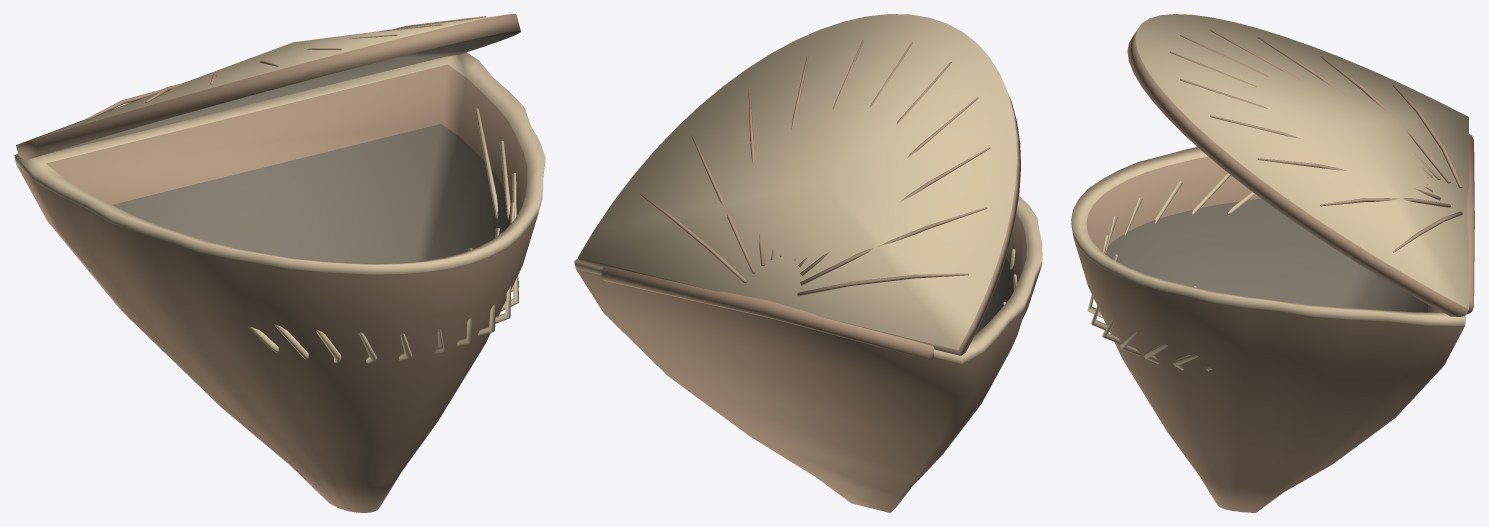
File: calceola.glb
3 views of the same model, side by side, from view 1: azimuth 30°, elevation 25°; view 2: azimuth 150°, elevation 25°; view 3: azimuth 270°, elevation 25° (orthographic). The views are drawn at different scales.
Parts seen in each view (by area): view 1: continuous-slipper-cup-and-recess, single-semicircular-lid, restrained-growth-ribs-and-hinge; view 2: single-semicircular-lid, continuous-slipper-cup-and-recess, restrained-growth-ribs-and-hinge; view 3: continuous-slipper-cup-and-recess, single-semicircular-lid, restrained-growth-ribs-and-hinge.
Part boxes in pixels (<box>): continuous-slipper-cup-and-recess: <box>14,52,545,512</box>; single-semicircular-lid: <box>16,14,520,160</box>; restrained-growth-ribs-and-hinge: <box>86,16,519,363</box>; single-semicircular-lid: <box>578,14,1020,355</box>; continuous-slipper-cup-and-recess: <box>574,196,1042,512</box>; restrained-growth-ribs-and-hinge: <box>601,40,1017,360</box>; continuous-slipper-cup-and-recess: <box>1071,147,1466,512</box>; single-semicircular-lid: <box>1127,14,1468,316</box>; restrained-growth-ribs-and-hinge: <box>1087,29,1474,371</box>.
Bounding box in the file's own units: 0.0641 × 0.07 × 0.0551.
